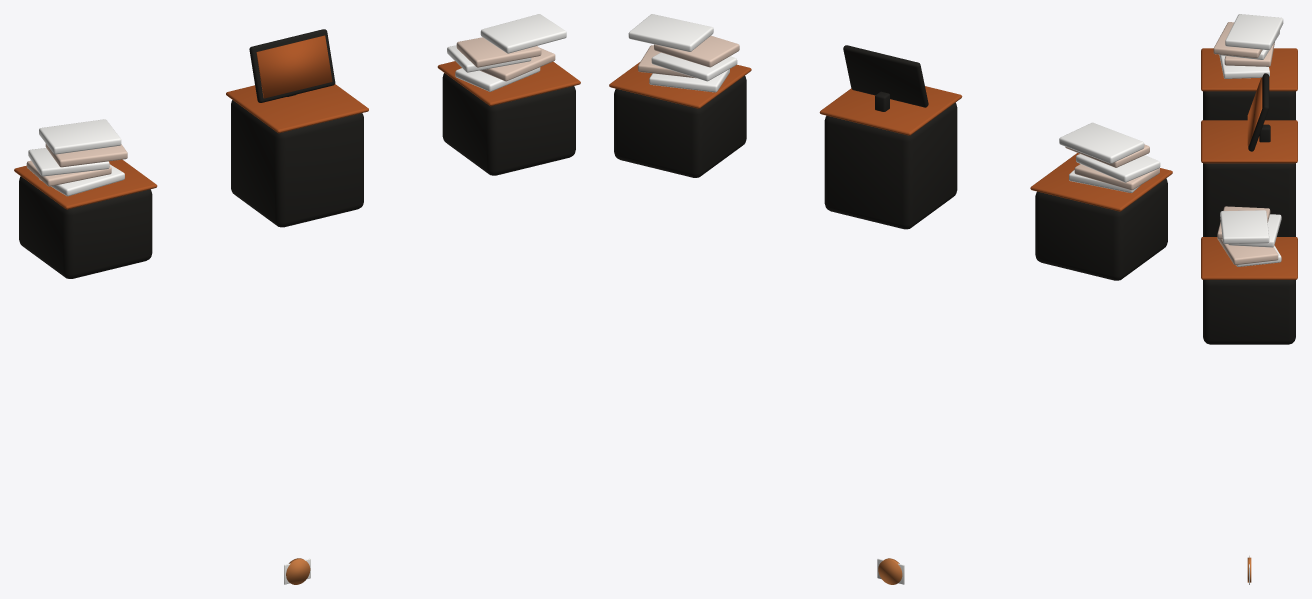
File: finance.glb
The picture shows the model from 3 angles, left to right: view 1: azimuth 30°, elevation 25°; view 2: azimuth 150°, elevation 25°; view 3: azimuth 270°, elevation 25°; orthographic projection. The views are drawn at different scales.
Visible parts, largest first — view 1: PillarB, PillarC, PillarA, PillarBCap, ConsoleScreen, PillarCCap, PillarACap, LedgerC4, LedgerA4, Console, LedgerC3, LedgerA3 (+5 smaller); view 2: PillarB, PillarA, PillarC, PillarBCap, Console, PillarACap, PillarCCap, LedgerA4, LedgerC4, LedgerC3, LedgerC2, LedgerA2 (+2 smaller); view 3: PillarC, PillarB, PillarBCap, PillarCCap, PillarACap, PillarA, LedgerA4, LedgerC4, LedgerC1, LedgerA3, LedgerA0, Console (+7 smaller).
Part boxes in pixels (bbox=[...]): PillarB: bbox=[231, 100, 363, 227]; PillarC: bbox=[442, 73, 575, 175]; PillarA: bbox=[19, 176, 152, 278]; PillarBCap: bbox=[226, 84, 368, 133]; ConsoleScreen: bbox=[256, 35, 332, 98]; PillarCCap: bbox=[437, 61, 580, 106]; PillarACap: bbox=[14, 159, 157, 209]; LedgerC4: bbox=[480, 14, 566, 53]; LedgerA4: bbox=[39, 119, 121, 154]; Console: bbox=[249, 29, 335, 102]; LedgerC3: bbox=[456, 37, 541, 67]; LedgerA3: bbox=[45, 143, 127, 167]; PillarB: bbox=[824, 102, 957, 229]; PillarA: bbox=[1035, 178, 1167, 280]; PillarC: bbox=[614, 76, 746, 177]; PillarBCap: bbox=[819, 86, 962, 135]; Console: bbox=[843, 45, 928, 107]; PillarACap: bbox=[1030, 153, 1172, 211]; PillarCCap: bbox=[609, 62, 751, 108]; LedgerA4: bbox=[1059, 122, 1144, 163]; LedgerC4: bbox=[628, 14, 713, 51]; LedgerC3: bbox=[654, 35, 739, 67]; LedgerC2: bbox=[651, 52, 737, 81]; LedgerA2: bbox=[1076, 154, 1160, 182]; PillarC: bbox=[1203, 280, 1295, 344]; PillarB: bbox=[1203, 163, 1295, 236]; PillarBCap: bbox=[1201, 120, 1297, 163]; PillarCCap: bbox=[1201, 237, 1297, 279]; PillarACap: bbox=[1201, 48, 1297, 91]; PillarA: bbox=[1203, 91, 1295, 120]; LedgerA4: bbox=[1225, 14, 1283, 49]; LedgerC4: bbox=[1220, 210, 1269, 243]; LedgerC1: bbox=[1217, 238, 1278, 265]; LedgerA3: bbox=[1213, 22, 1262, 58]; LedgerA0: bbox=[1219, 55, 1269, 78]; Console: bbox=[1248, 73, 1269, 151].
Size of the model in its own units: 8.86 by 8.76 by 1.56.
